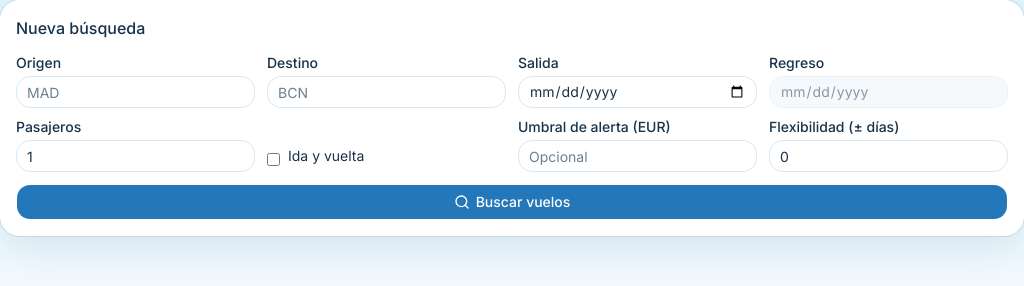
Scenario: SearchForm › starts as one-way and only enables the return date on round trip
Expected: the date field labelled "Regreso" is disabled, [769,76,1008,108]
What coordinates should you click on to do the following:
click the checkbox labelled "Ida y vuelta"
I would click on:
 (274, 160)
Its box is [267,153,280,166].
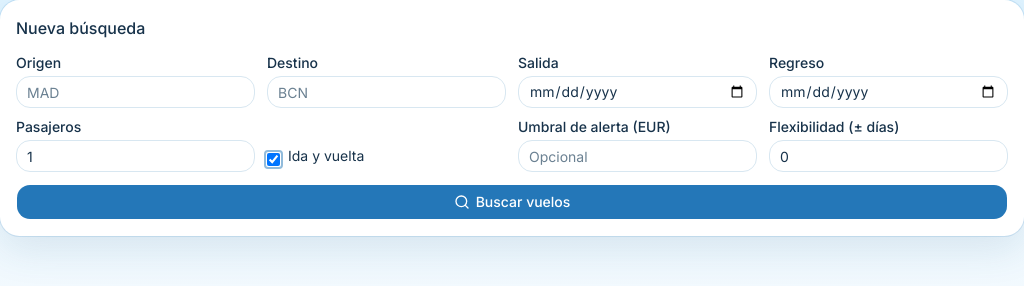
Now the date field labelled "Regreso" is enabled, box [769,76,1008,108]
